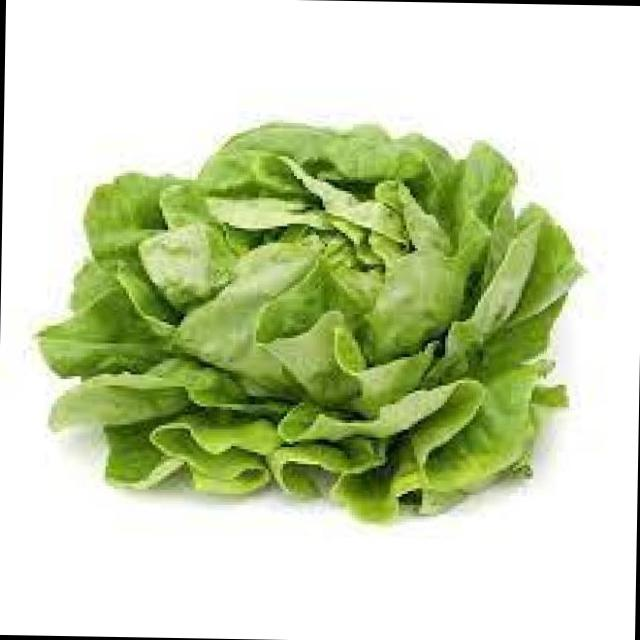Lettuce-Ready-to-Harvest: (40, 123, 580, 519)
